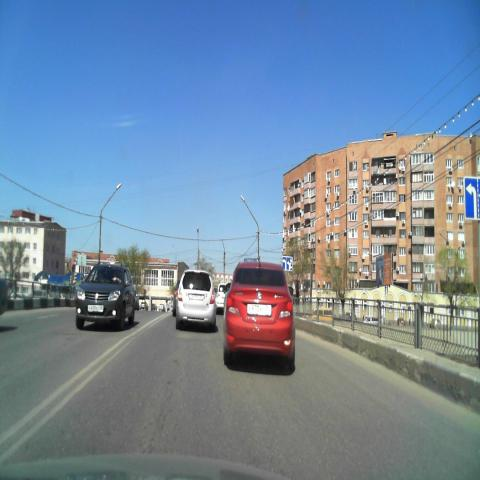5_15_2_2: (463, 176, 480, 220), (282, 256, 292, 271)
